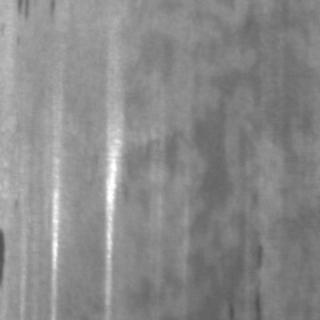scratches: (96, 82, 126, 312), (44, 139, 64, 313)
